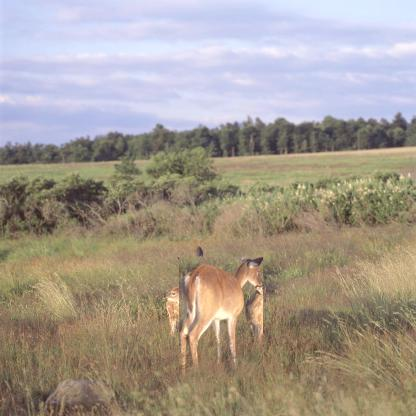Deer: (180, 258, 264, 378)
